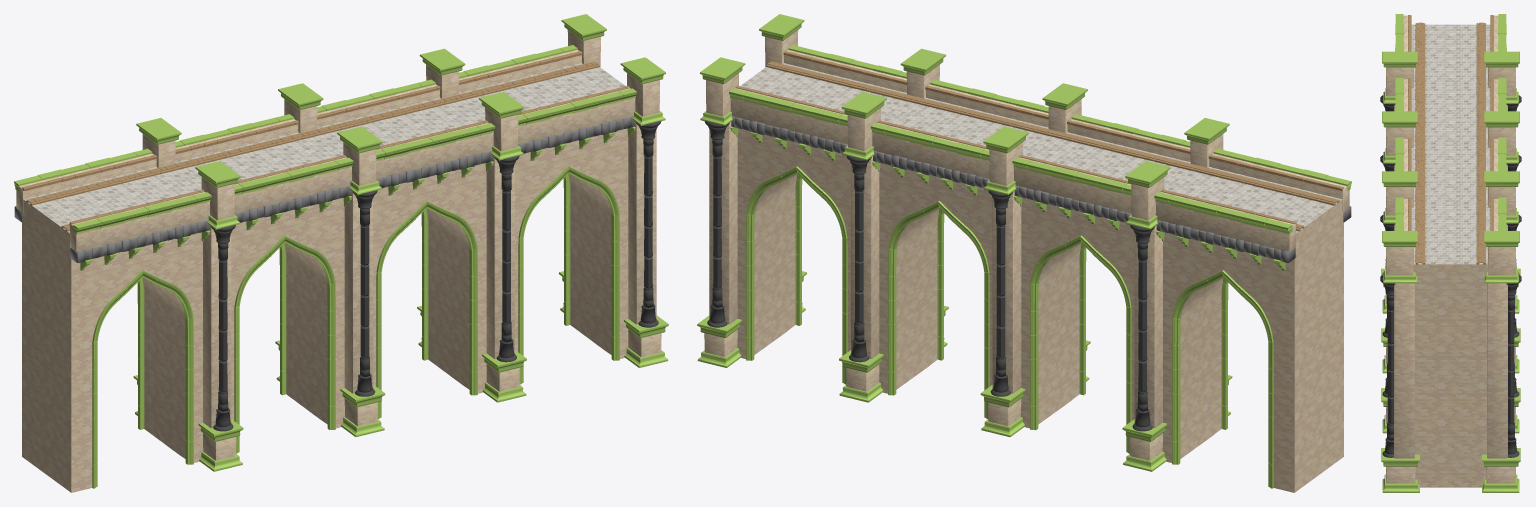
Rendered from SM_bridge_preset.fbx.
3 views of the same model, side by side, from view 1: azimuth 30°, elevation 25°; view 2: azimuth 150°, elevation 25°; view 3: azimuth 270°, elevation 25° (orthographic). The views are drawn at different scales.
Parts seen in each view (by area): view 1: Object33253; view 2: Object33253; view 3: Object33253.
Boxes of the visible parts, bbox=[...] form: Object33253: bbox=[14, 14, 668, 492]; Object33253: bbox=[697, 14, 1351, 492]; Object33253: bbox=[1380, 14, 1521, 492].
Bounding box in the file's own units: 2715 × 1293 × 658.
